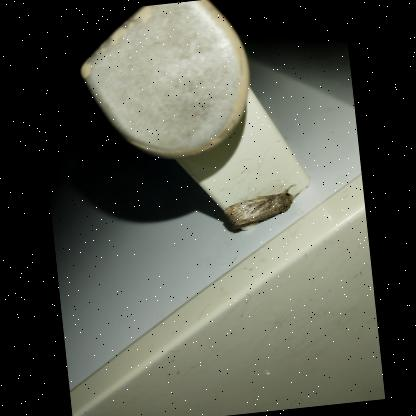Fall Armyworm Moth: (221, 182, 307, 232)
